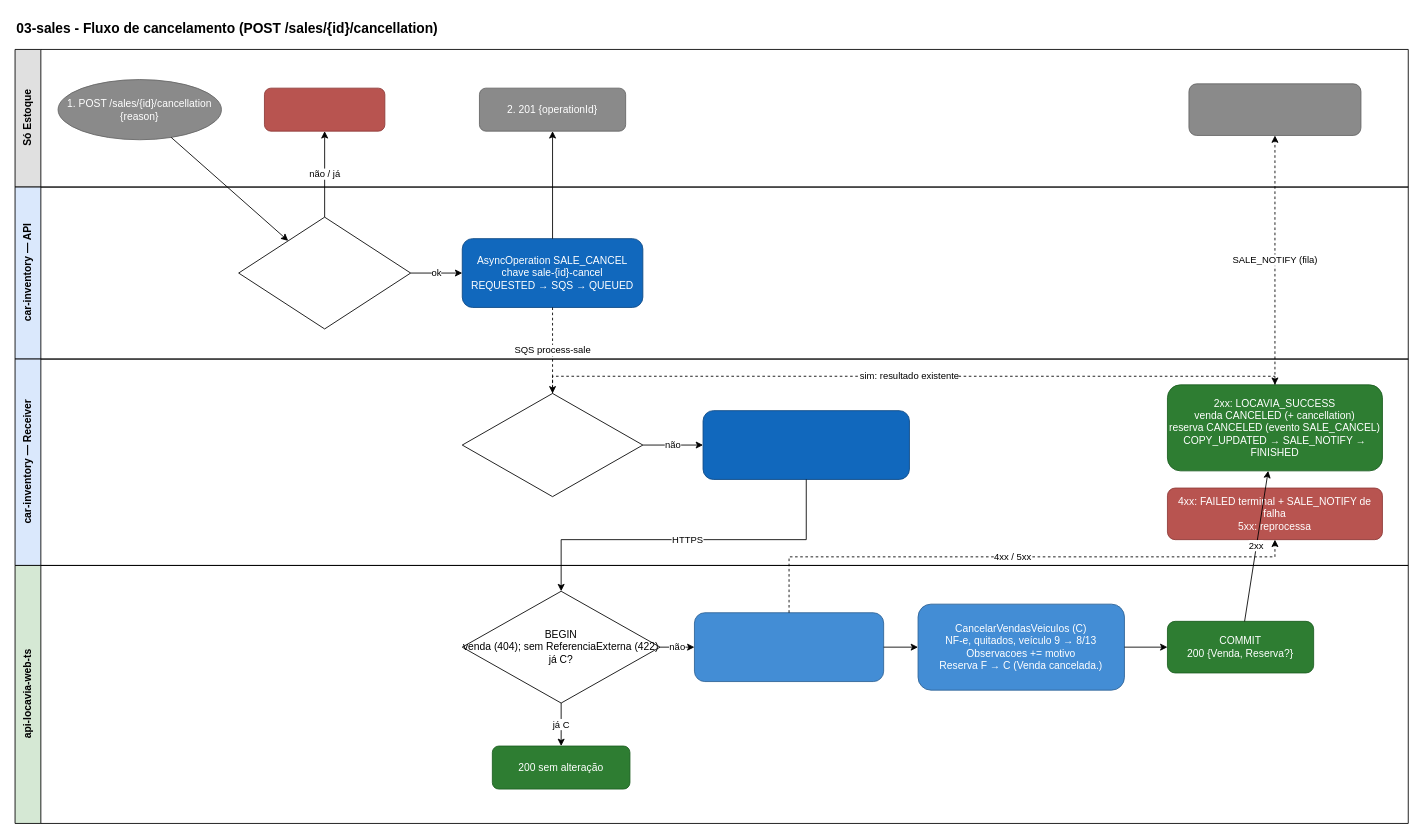
This 1423x839 diagram has some shape labels left out. Here are the shapes that lost their labels. From the top down, the centre of each, then its label:
At (324,109): "404 / 422 imediato".
At (1274,109): "5. Webhook de vendas sale.cancel".
At (324,272): "Venda na cópia da organização? Já cancelada?".
At (552,445): "3. PROCESSING já CANCELED na cópia?".
At (805,444): "LOCAVIA_REQUEST PUT /vendas-veiculos/integracao/cancelar {CodigoVenda, Motivo}".
At (789,647): "CodigoMotivoCancelamentoVenda (PortalSeminovosParametros, 422 se ausente)".
